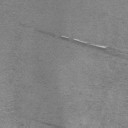finishing roll printing: (20, 24, 128, 60), (35, 120, 63, 128)
